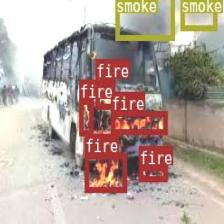fire: (84, 153, 125, 191), (110, 110, 166, 133), (95, 78, 114, 107), (79, 98, 92, 134), (138, 165, 167, 180)
smoke: (114, 0, 174, 40), (180, 0, 217, 29)
